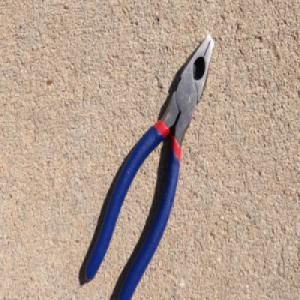Pliers: (83, 31, 214, 300)
